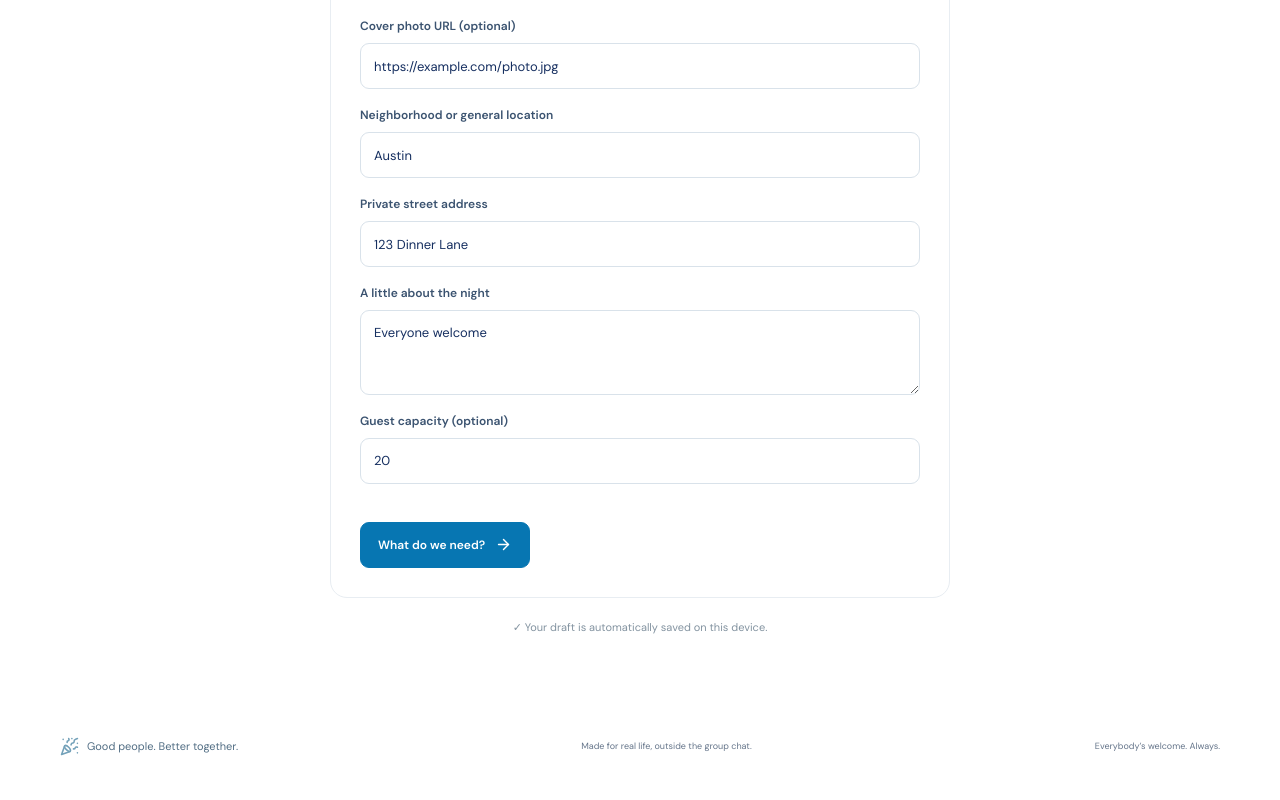
Test: party creation › handles rejected OTP requests and leaves the saved draft available
The width and height of the screenshot is (1280, 800).
(page scrolled)
Click the button "What do we need?" at coordinates (445, 545), box x1=360 y1=522 x2=530 y2=568
(page scrolled)
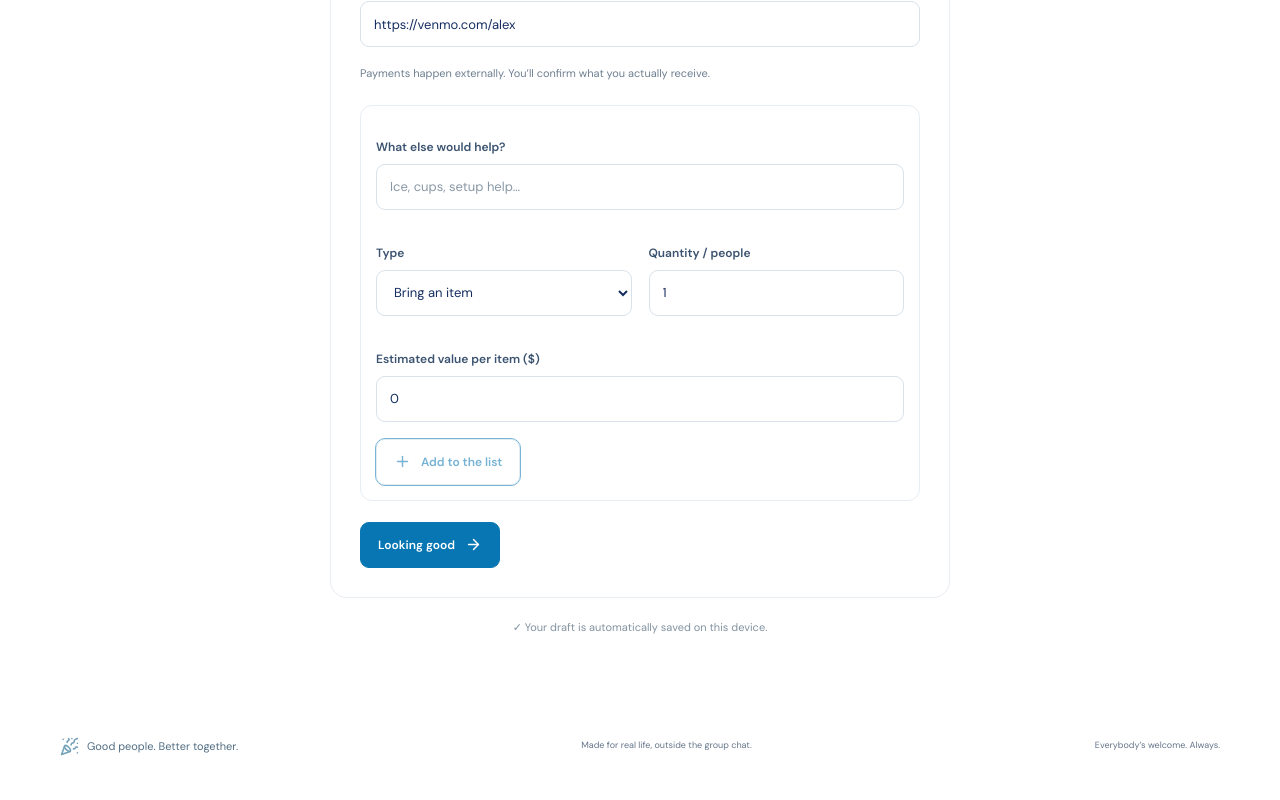
Expected: the button "Looking good" is shown
Click the button "Looking good" at coordinates (430, 544), box x1=360 y1=522 x2=500 y2=568
(page scrolled)
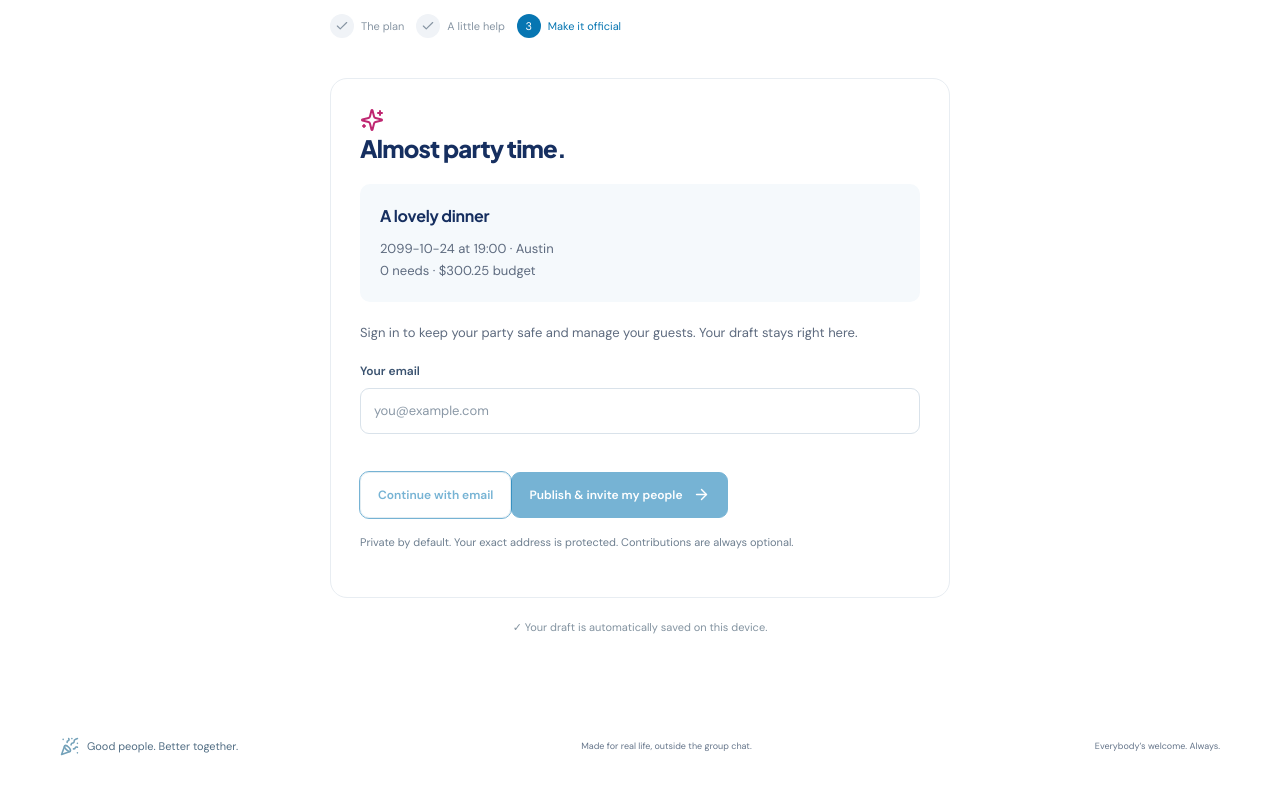
Expected: the heading "Almost party time." is shown, x1=360 y1=133 x2=566 y2=163
Type "alex@example.com" into the field labelled "Your email" at coordinates (640, 411), box x1=360 y1=388 x2=920 y2=434
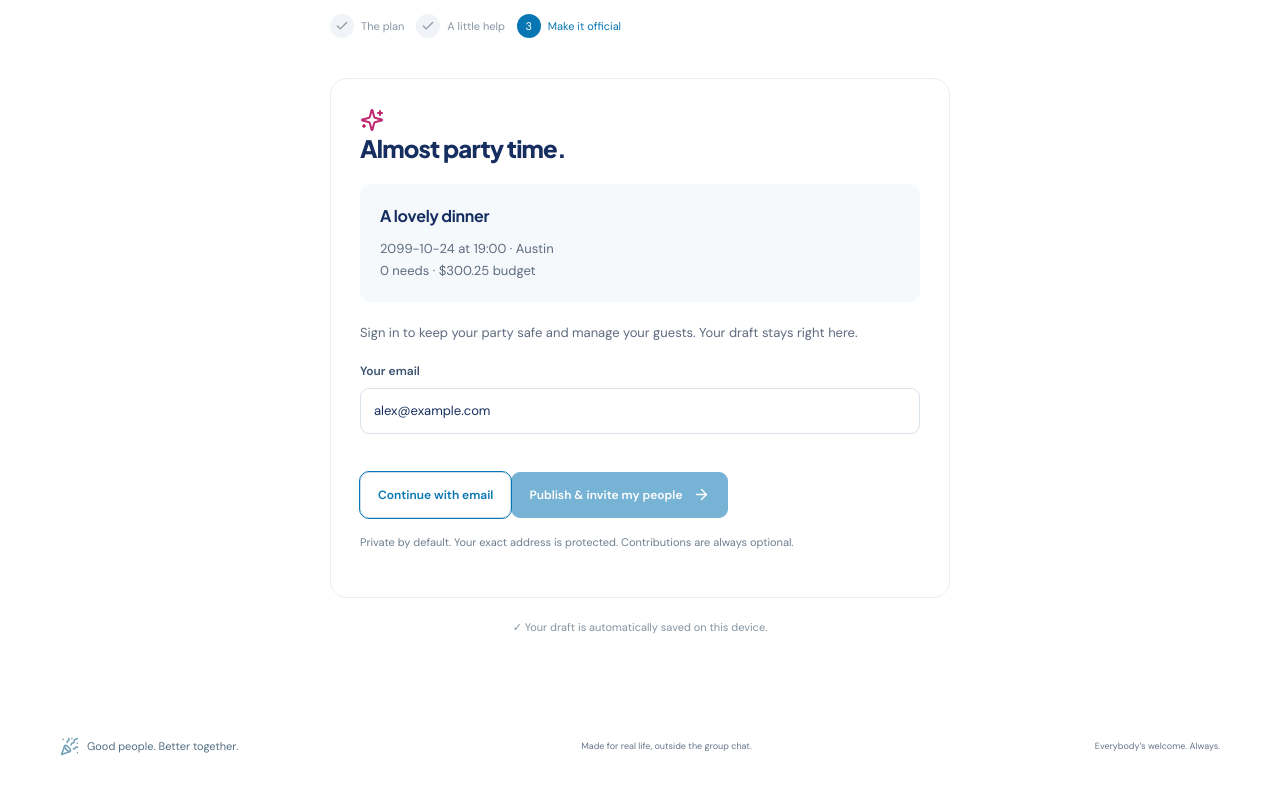
Click the button "Continue with email" at coordinates (436, 495), box x1=360 y1=472 x2=511 y2=518
(page scrolled)
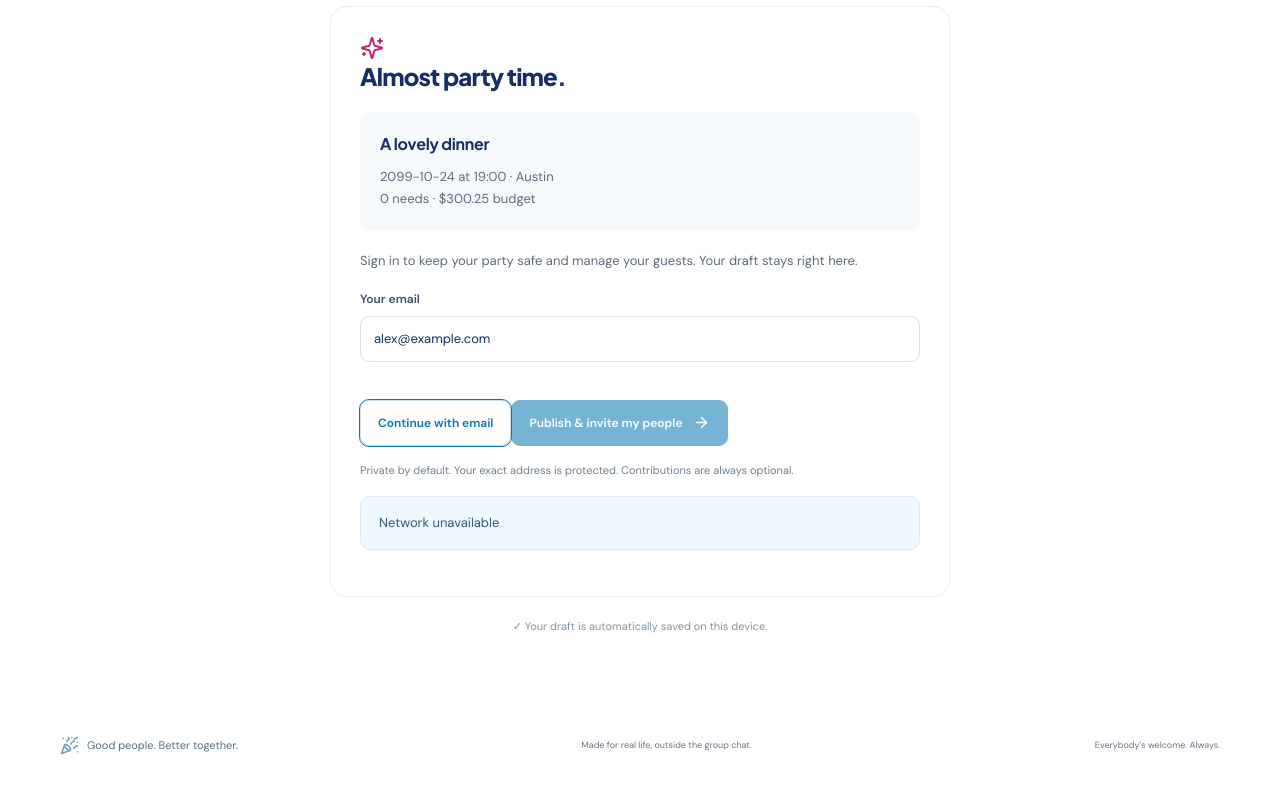
Expected: the button "Continue with email" is enabled, x1=360 y1=400 x2=511 y2=446
Expected: the heading "A lovely dinner" is shown, x1=380 y1=133 x2=489 y2=154
Expected: the message reads "Network unavailable", x1=379 y1=514 x2=499 y2=531
